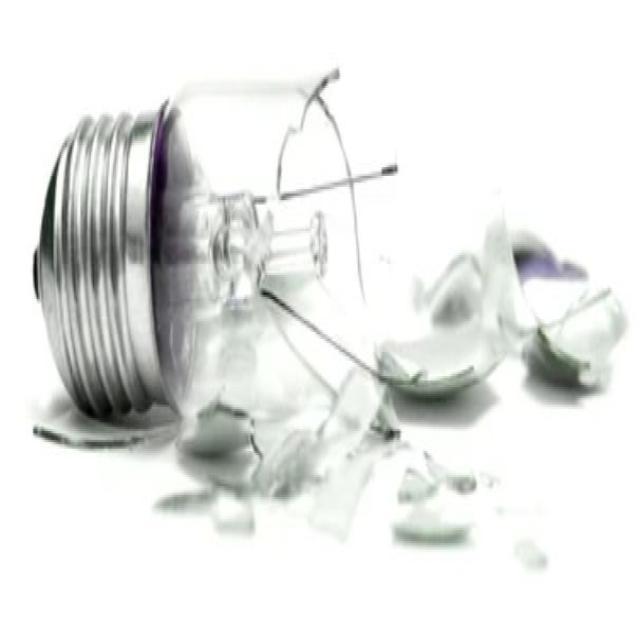electronic: (32, 64, 393, 438)
